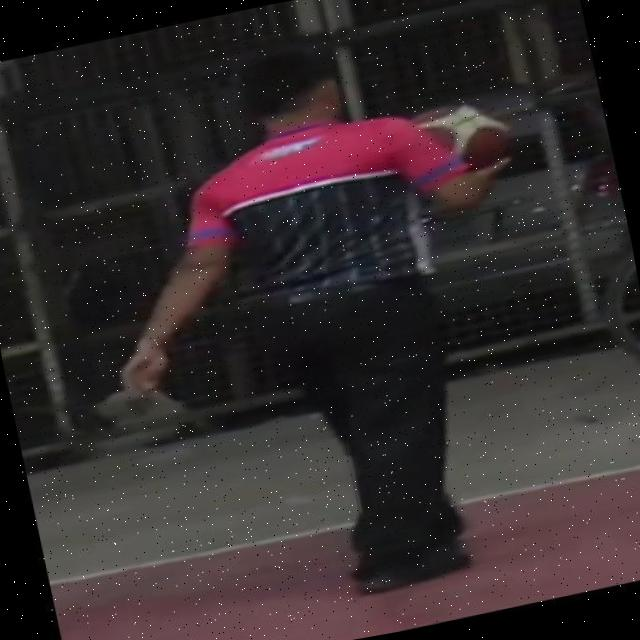ball: (368, 82, 535, 215)
